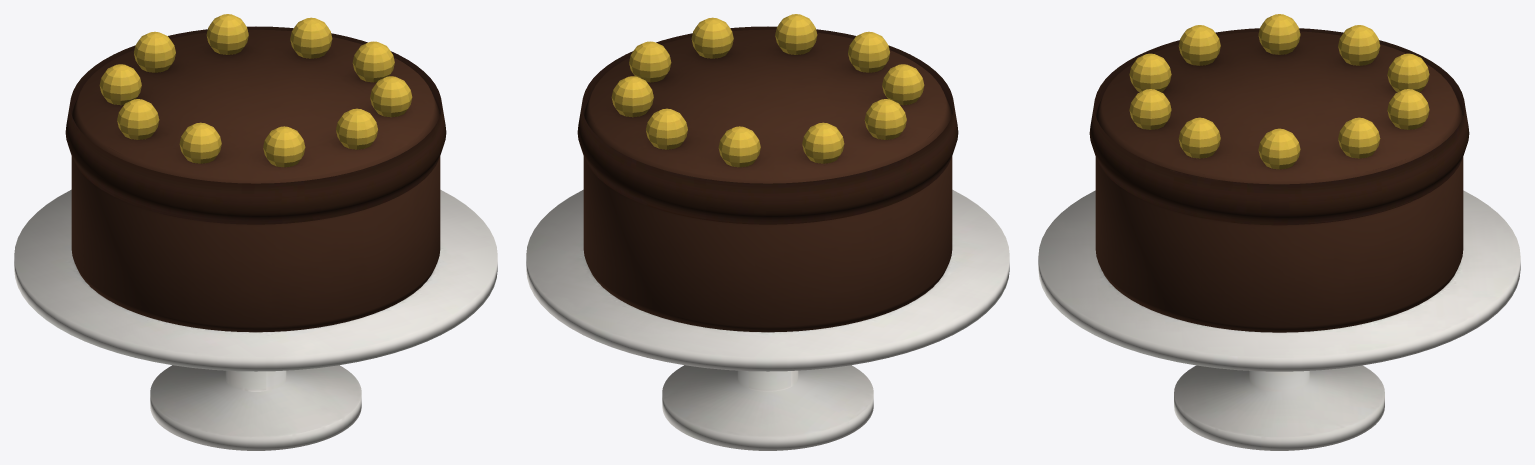
The model's file is chocolate-drip.glb.
3 renders of one model, left to right at view 1: azimuth 30°, elevation 25°; view 2: azimuth 150°, elevation 25°; view 3: azimuth 270°, elevation 25°, orthographic.
Parts seen in each view (by area): view 1: icing_primary, ceramic_white, ganache, berry; view 2: icing_primary, ceramic_white, ganache, berry; view 3: icing_primary, ceramic_white, ganache, berry.
Boxes of the visible parts, x1,y1,x2,y2 form: icing_primary: (71,29,440,332); ceramic_white: (14,189,497,450); ganache: (65,26,446,224); berry: (99,14,412,167); icing_primary: (583,29,952,332); ceramic_white: (526,189,1009,450); ganache: (577,26,958,224); berry: (611,14,924,167); icing_primary: (1095,31,1463,332); ceramic_white: (1038,190,1520,450); ganache: (1089,28,1469,225); berry: (1129,14,1429,169).
Size of the model in its own units: 0.32 by 0.244 by 0.32.
4 materials, 4 textured.
